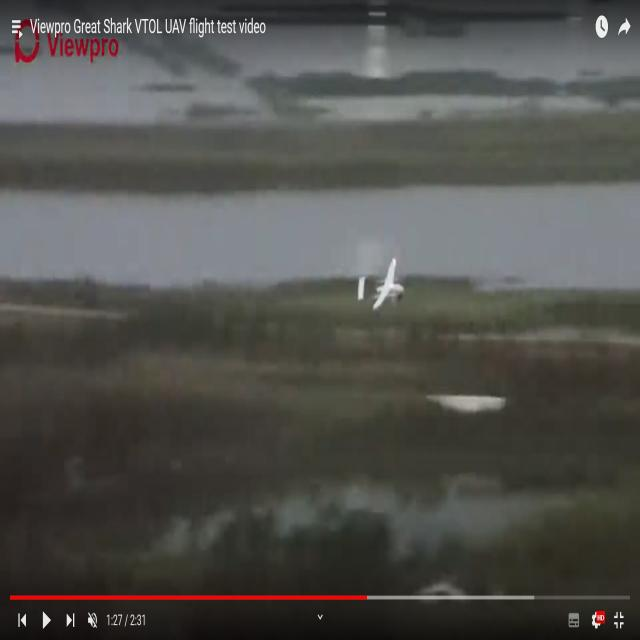iha: (360, 258, 404, 310)
